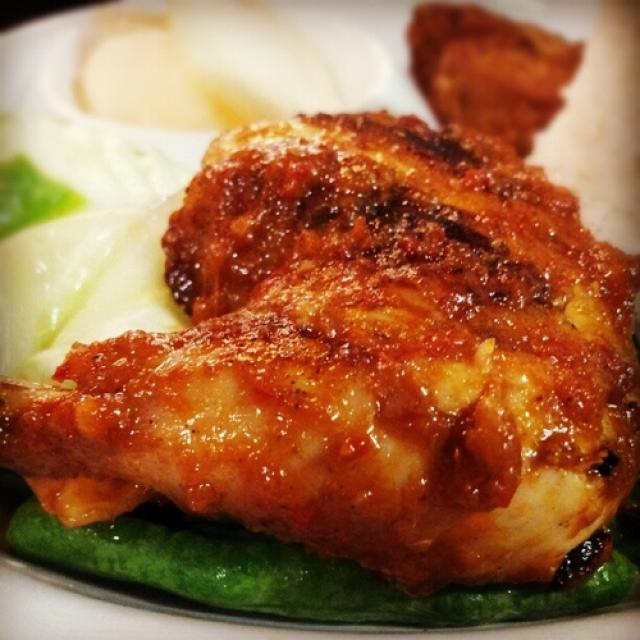鸡肉料理 含炸鸡: (15, 60, 626, 604)
